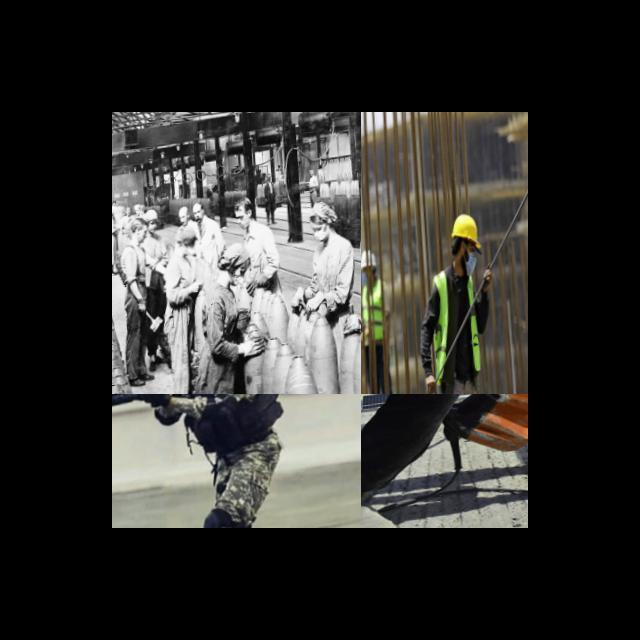Hardhat: (448, 216, 482, 244), (363, 250, 379, 270)
Mask: (465, 254, 477, 273), (314, 230, 328, 242), (231, 275, 244, 287), (362, 272, 370, 286), (238, 220, 248, 229), (138, 234, 147, 243), (187, 247, 196, 256), (148, 226, 158, 233)
NO-Hardhat: (219, 243, 251, 267), (308, 202, 336, 222), (177, 229, 199, 245), (234, 197, 254, 211), (127, 220, 144, 232), (144, 210, 159, 221), (192, 202, 204, 212), (114, 206, 124, 214), (179, 206, 189, 214), (139, 206, 146, 213), (308, 170, 316, 174), (266, 174, 272, 179), (135, 205, 141, 210)
NO-Safety Vest: (204, 284, 239, 357), (312, 238, 341, 289), (172, 252, 194, 306), (243, 227, 268, 270), (123, 244, 144, 279), (143, 236, 164, 269), (195, 221, 214, 254), (265, 184, 275, 197), (182, 222, 195, 231), (308, 178, 317, 190), (121, 216, 129, 225)
Person: (160, 393, 285, 528), (424, 210, 493, 393), (200, 242, 265, 394), (120, 220, 157, 386), (162, 229, 198, 394), (303, 202, 354, 312), (233, 196, 282, 291), (362, 252, 395, 393), (143, 209, 171, 372), (192, 200, 225, 252), (264, 174, 276, 225), (112, 204, 119, 272), (175, 206, 197, 227), (309, 169, 320, 206), (114, 203, 122, 225), (119, 217, 130, 232), (138, 204, 145, 214), (135, 203, 139, 213)
Safety Vest: (433, 270, 482, 375), (363, 283, 388, 339)
